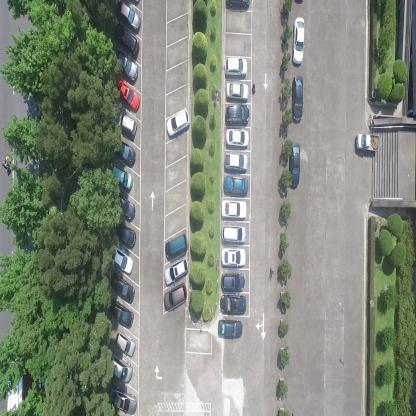car: (112, 21, 139, 58), (109, 385, 138, 415), (108, 348, 132, 383), (109, 296, 133, 330), (117, 78, 140, 113), (109, 272, 135, 302), (115, 51, 138, 84), (292, 14, 306, 66), (164, 282, 188, 312), (164, 255, 188, 285), (118, 1, 141, 32), (110, 246, 134, 274), (167, 108, 190, 137), (115, 137, 136, 167), (113, 222, 136, 249), (110, 164, 133, 191), (115, 109, 138, 136), (291, 74, 303, 124), (224, 103, 250, 126), (220, 294, 247, 316), (165, 232, 187, 259), (114, 329, 136, 356), (288, 141, 300, 188), (216, 320, 244, 340), (222, 224, 247, 246), (220, 248, 247, 268), (116, 194, 136, 221), (220, 201, 248, 220), (225, 56, 248, 79), (355, 133, 379, 154), (225, 80, 249, 100), (224, 176, 248, 196), (225, 128, 249, 147), (221, 272, 245, 291), (224, 152, 248, 170), (223, 0, 250, 8)
